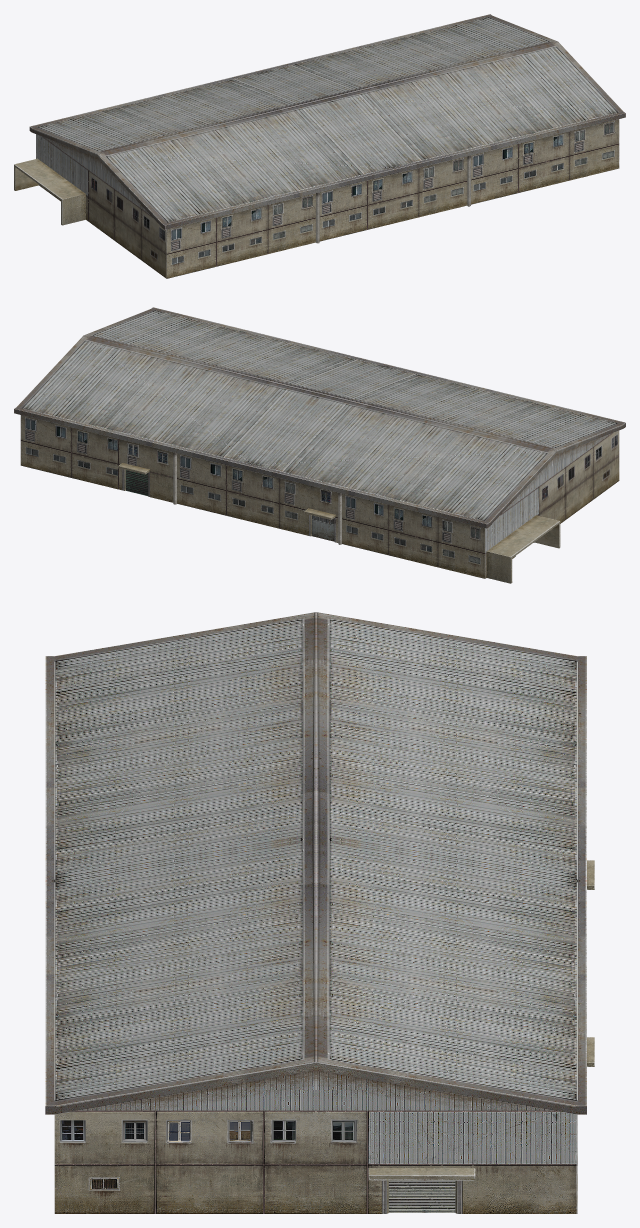
The model's file is warehouse_01.FBX.
3 views of the same model, one above another, from view 1: azimuth 30°, elevation 25°; view 2: azimuth 150°, elevation 25°; view 3: azimuth 270°, elevation 25° (orthographic). The views are drawn at different scales.
Visible parts, largest first — view 1: Cone002; view 2: Cone002; view 3: Cone002.
Part boxes in pixels (box(x1,y1,x2,y2)): Cone002: box(14, 14, 625, 278); Cone002: box(14, 307, 625, 583); Cone002: box(45, 612, 594, 1213).
Size of the model in its own units: 5879 by 2891 by 907.
Materials: 1 (1 with a texture image).
